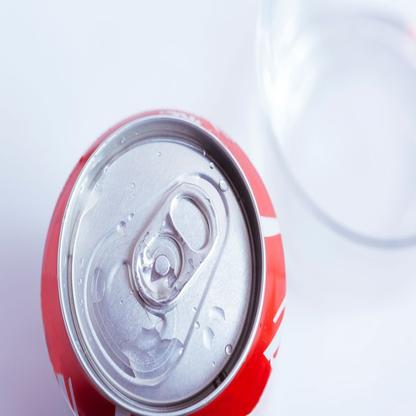can: (34, 107, 289, 416)
